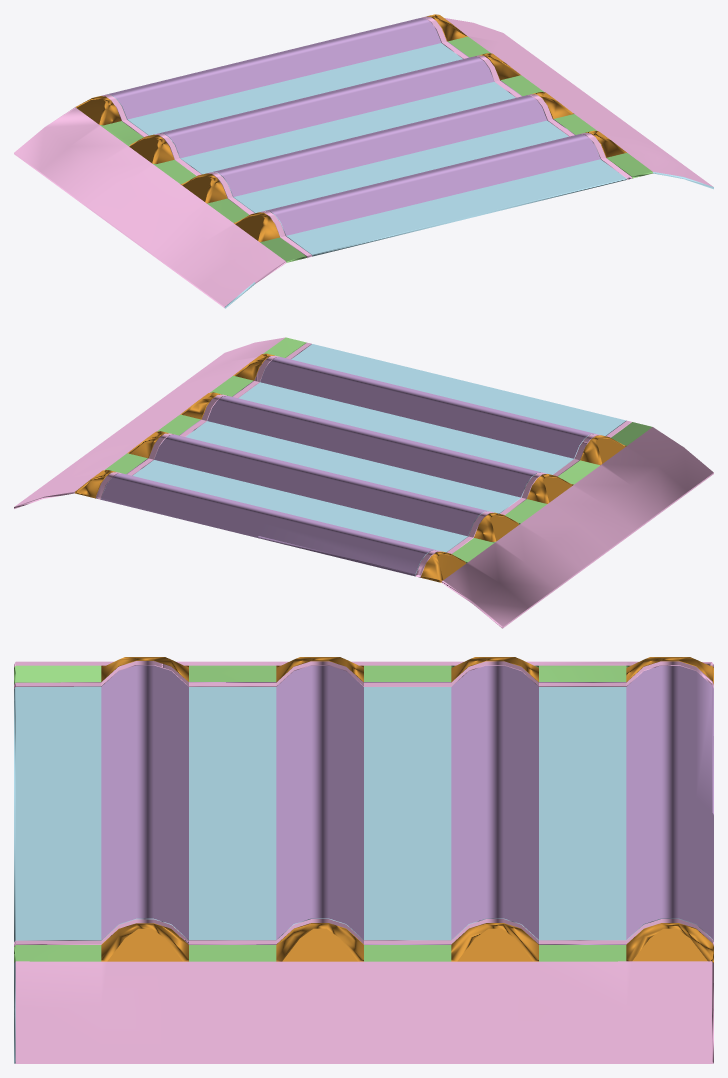
File: RaceTrack_grunge_discount_prop_uee_17.glb
3 views of the same model, one above another, from view 1: azimuth 30°, elevation 25°; view 2: azimuth 150°, elevation 25°; view 3: azimuth 270°, elevation 25° (orthographic). The views are drawn at different scales.
Size of the model in its own units: 8 by 0.7056 by 6.
